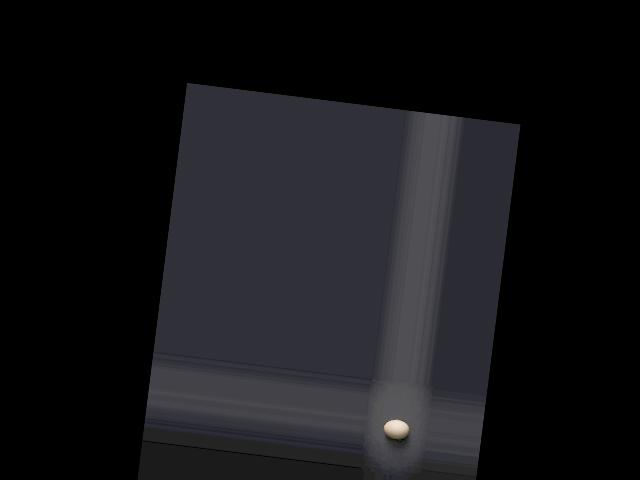egg: (382, 417, 410, 439)
